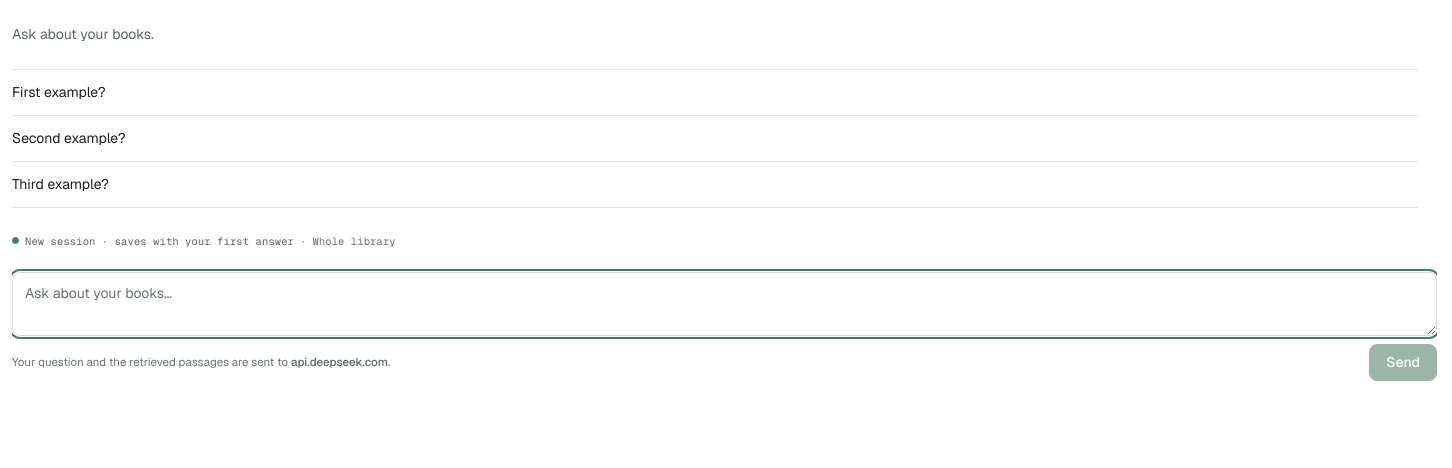
ChatPanel › shows an inline stream error with Retry and keeps the partial answer
(page scrolled)
Type "Explain." into the text box named "Your question" at (724, 304), box top-left (12, 272), bottom-right (1437, 336)
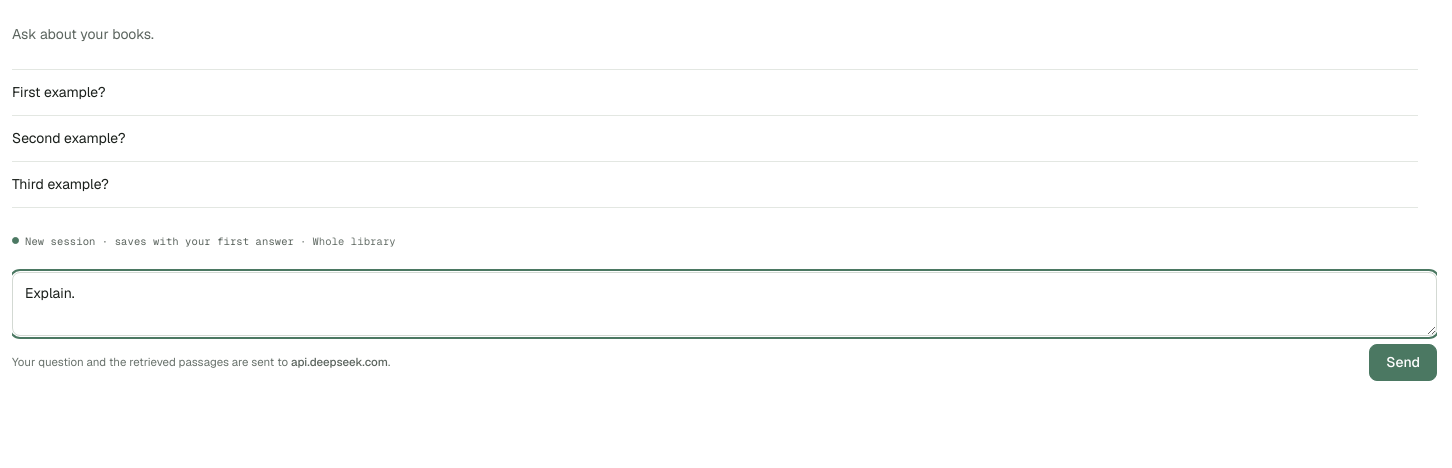
Click the button "Send" at (1403, 363), box top-left (1369, 344), bottom-right (1437, 381)
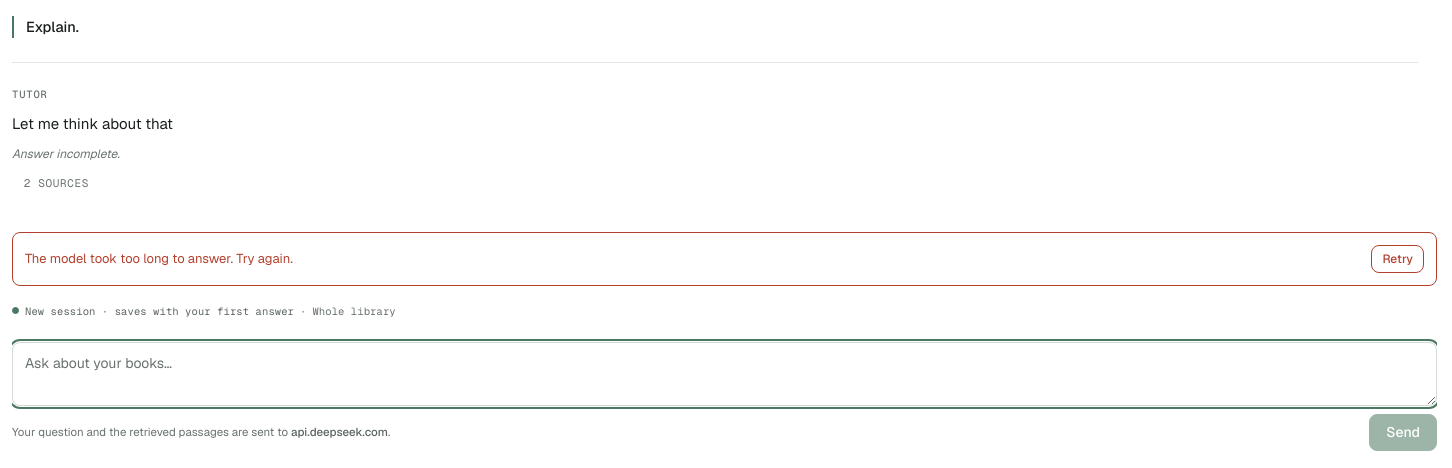
Now the message shows "The model took too long to answer. Try again.", box top-left (25, 250), bottom-right (293, 267)
Now the button "Retry" is shown, box top-left (1371, 244), bottom-right (1424, 272)
Now the text "Let me think about that" is shown, box top-left (12, 114), bottom-right (173, 133)
